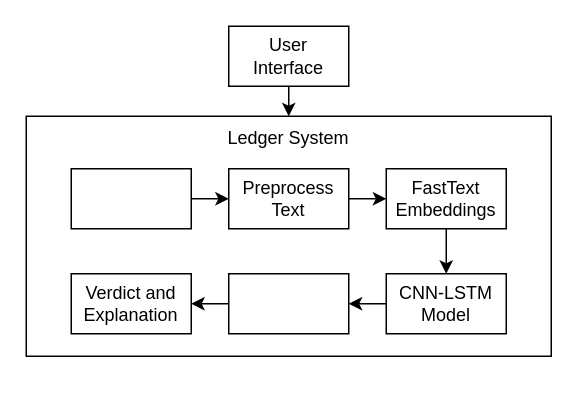
The diagram is 578 pixels wide and 395 high, and some of its shapes have lost their labels. Each missing label, with the centre of its shape:
"Input Text" goes at point 130,198.
"LIME" goes at point 288,303.
